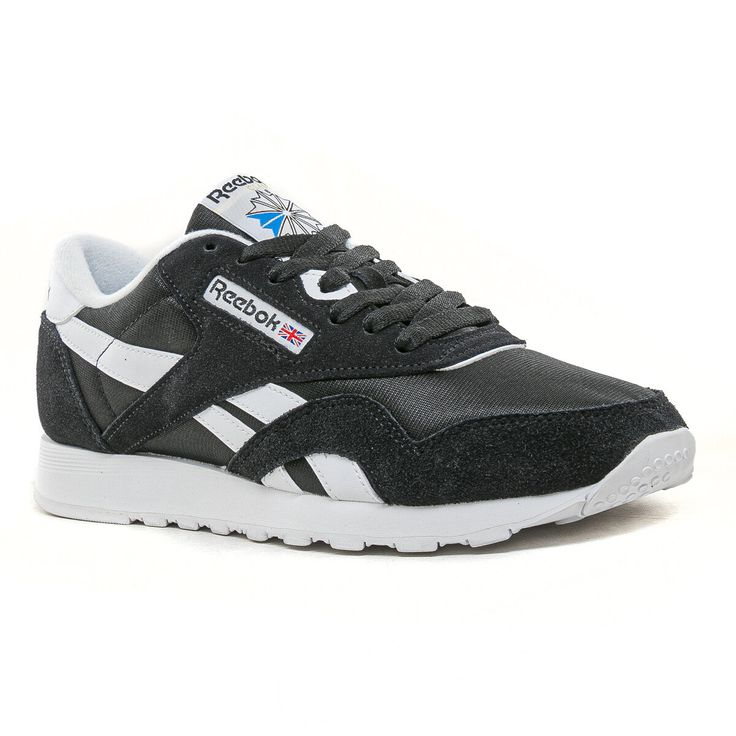gamuza: (36, 236, 689, 504)
